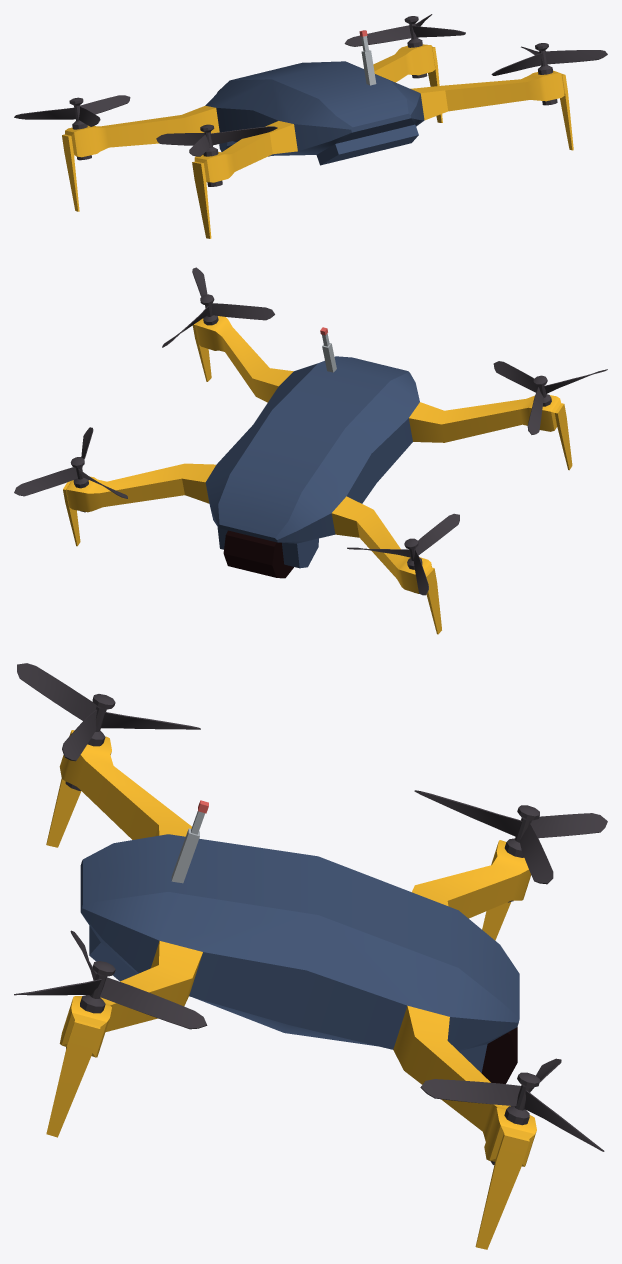
File: Drone.fbx
3 renders of one model, top to bottom at view 1: azimuth 30°, elevation 25°; view 2: azimuth 150°, elevation 25°; view 3: azimuth 270°, elevation 25°, orthographic. The views are drawn at different scales.
Parts seen in each view (by area): view 1: Body, Arms, propellerVR, PropellerHR, propellerVL, PropellerHL, Antena; view 2: Body, Arms, Camera, propellerVR, propellerVL, PropellerHR, PropellerHL; view 3: Body, Arms, PropellerHR, propellerVR, PropellerHL, propellerVL, Camera, Antena.
Part boxes in pixels (box(x1,y1,x2,y2)): Body: box(205, 61, 424, 165); Arms: box(62, 44, 573, 238); propellerVR: box(156, 124, 277, 186); PropellerHR: box(14, 95, 130, 160); propellerVL: box(491, 43, 607, 105); PropellerHL: box(344, 14, 465, 78); Antena: box(361, 36, 376, 85); Body: box(205, 356, 419, 568); Arms: box(63, 316, 572, 634); Camera: box(223, 530, 293, 578); propellerVR: box(493, 361, 607, 434); propellerVL: box(162, 267, 274, 347); PropellerHR: box(347, 513, 459, 595); PropellerHL: box(14, 427, 127, 512); Body: box(80, 834, 519, 1072); Arms: box(46, 730, 536, 1249); PropellerHR: box(414, 790, 607, 902); propellerVR: box(17, 663, 200, 790); PropellerHL: box(420, 1058, 604, 1164); propellerVL: box(14, 930, 207, 1048); Camera: box(481, 1027, 517, 1083); Antena: box(171, 811, 204, 883).
Size of the model in its own units: 142 by 63.47 by 107.
